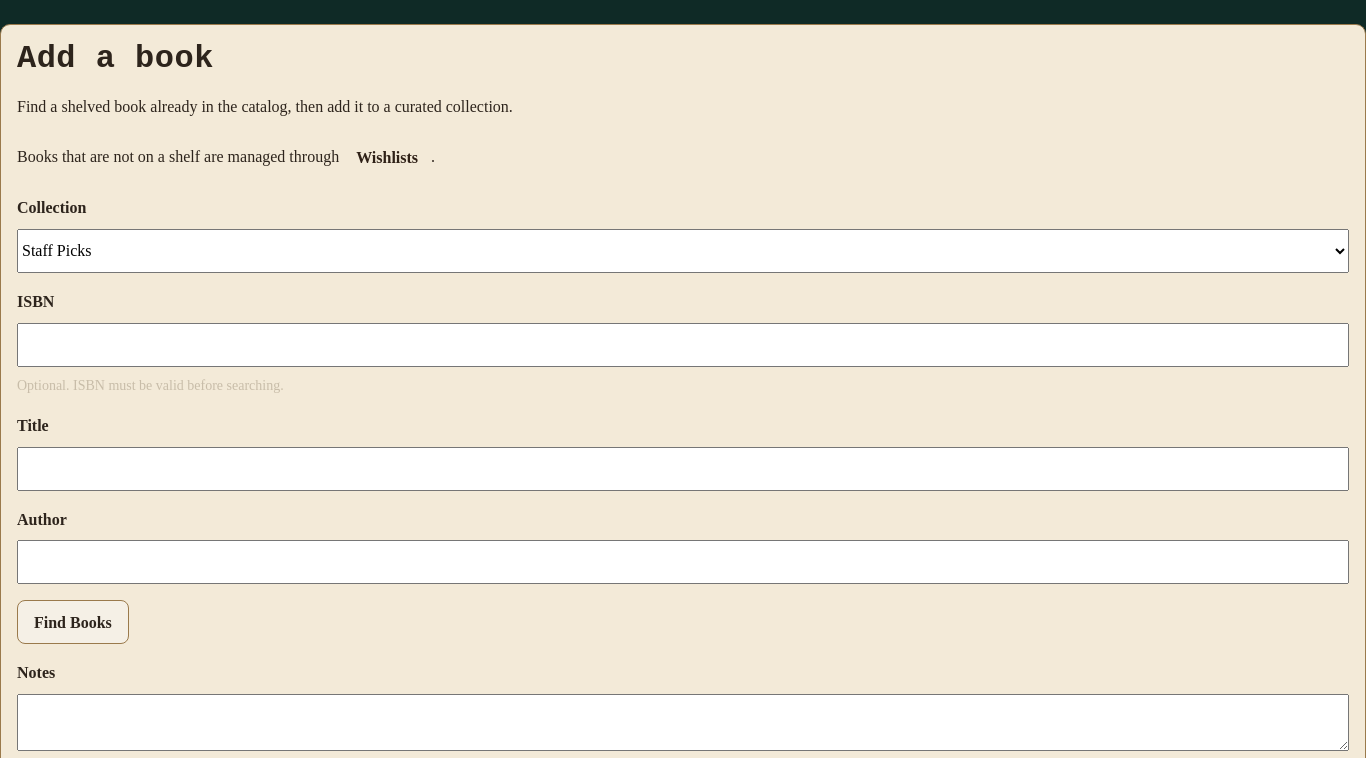
AddCollectionBookControl › adds the selected existing book membership with notes
In the field labelled "Title": {"x": 683, "y": 469} 17,447 -> 1349,491, type "Dispossessed"
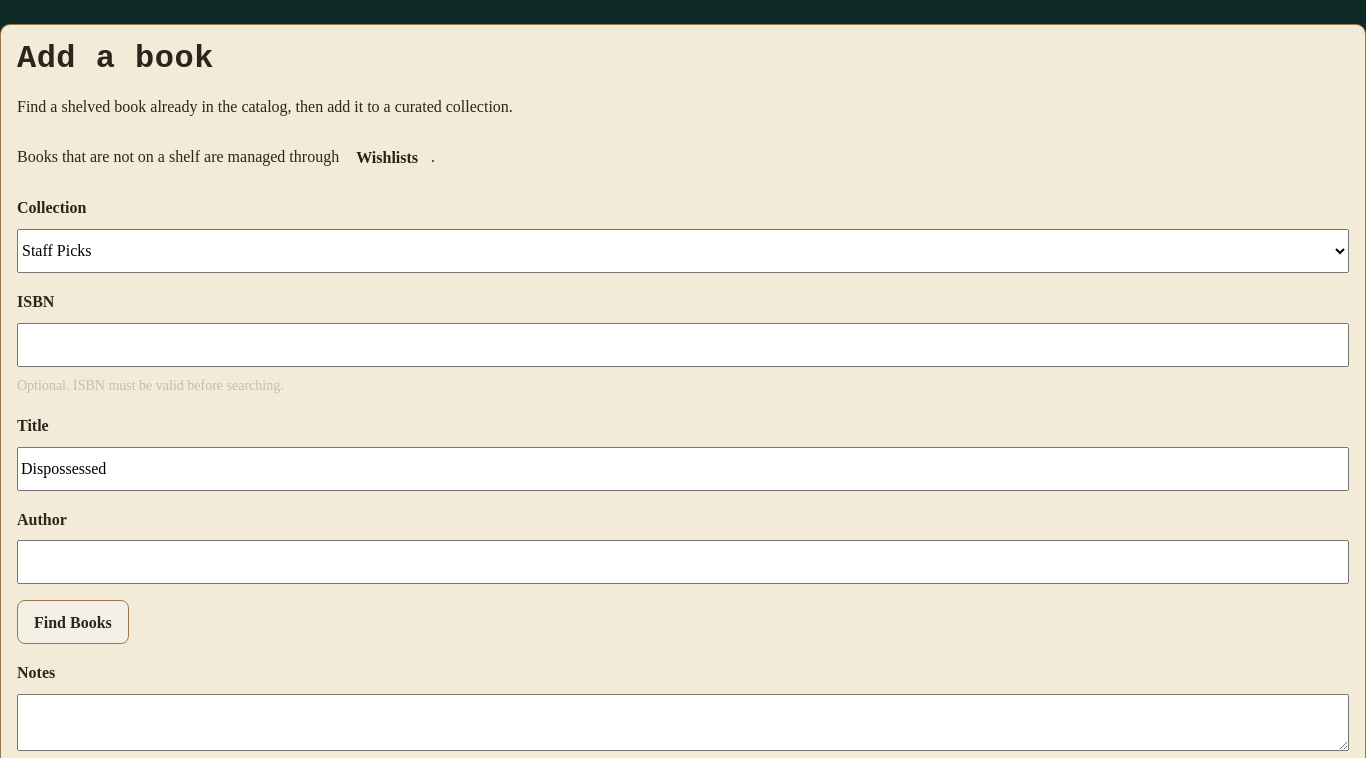
Click the button "Find Books": {"x": 73, "y": 622} 17,600 -> 129,644
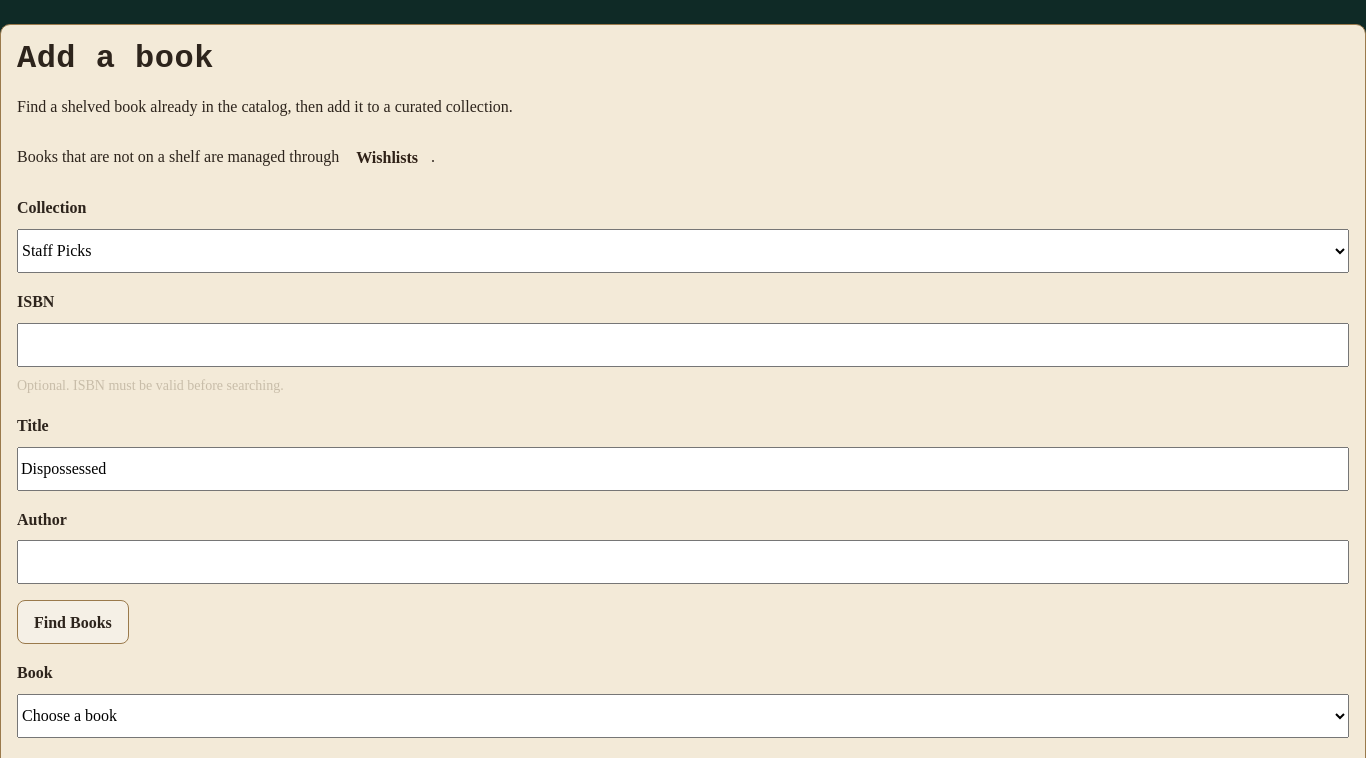
Select "The Dispossessed — Ursula K. Le Guin" in the dropdown labelled "Book": {"x": 683, "y": 716} 17,694 -> 1349,738
(page scrolled)
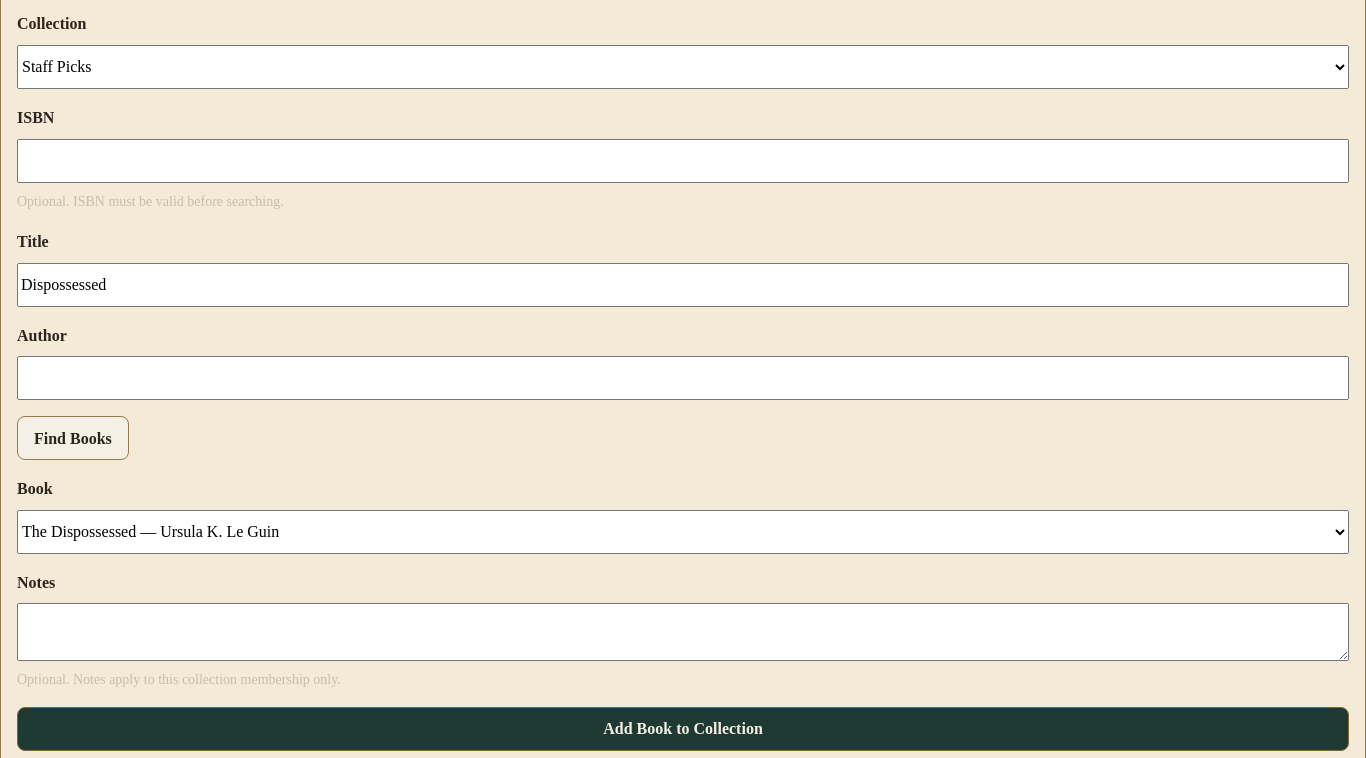
In the text box labelled "Notes": {"x": 683, "y": 632} 17,603 -> 1349,660, type "  Featured title  "
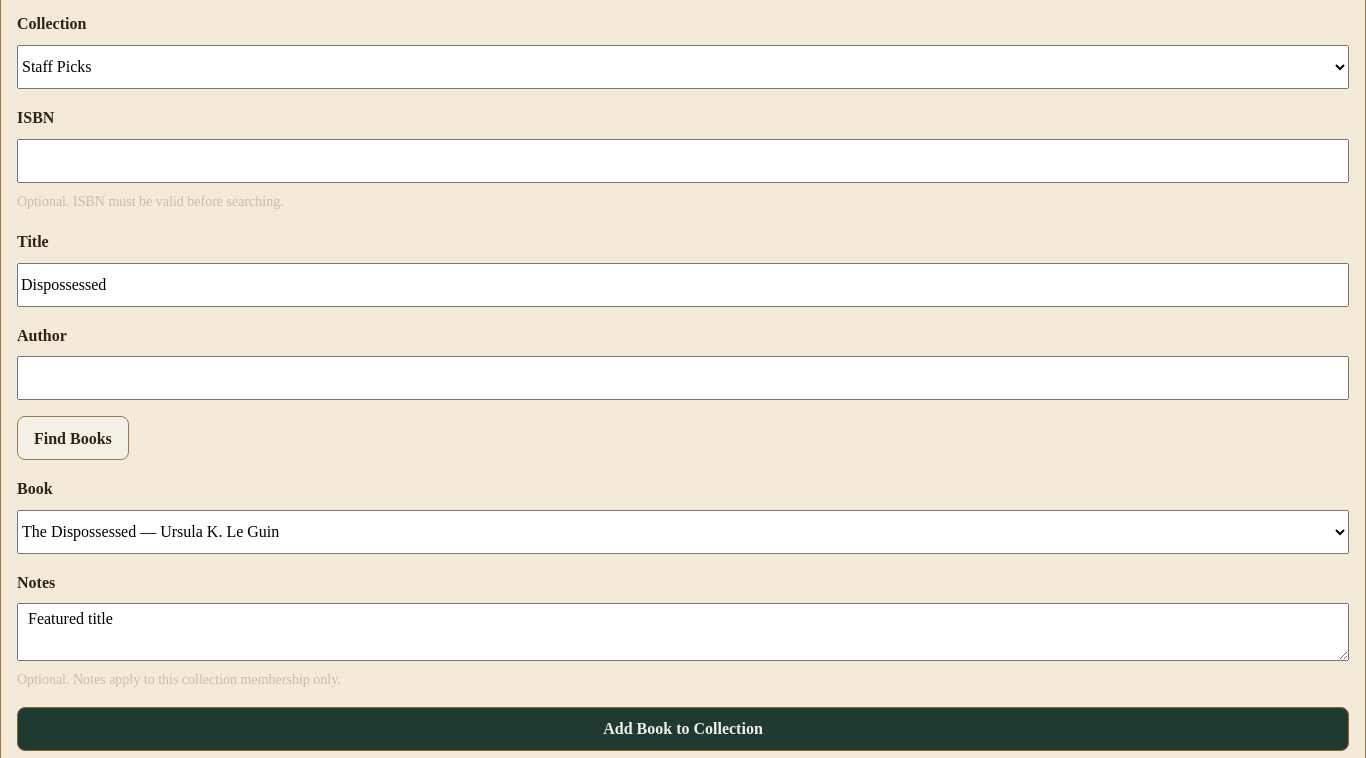
Click the button "Add Book to Collection": {"x": 683, "y": 729} 17,707 -> 1349,751
(page scrolled)
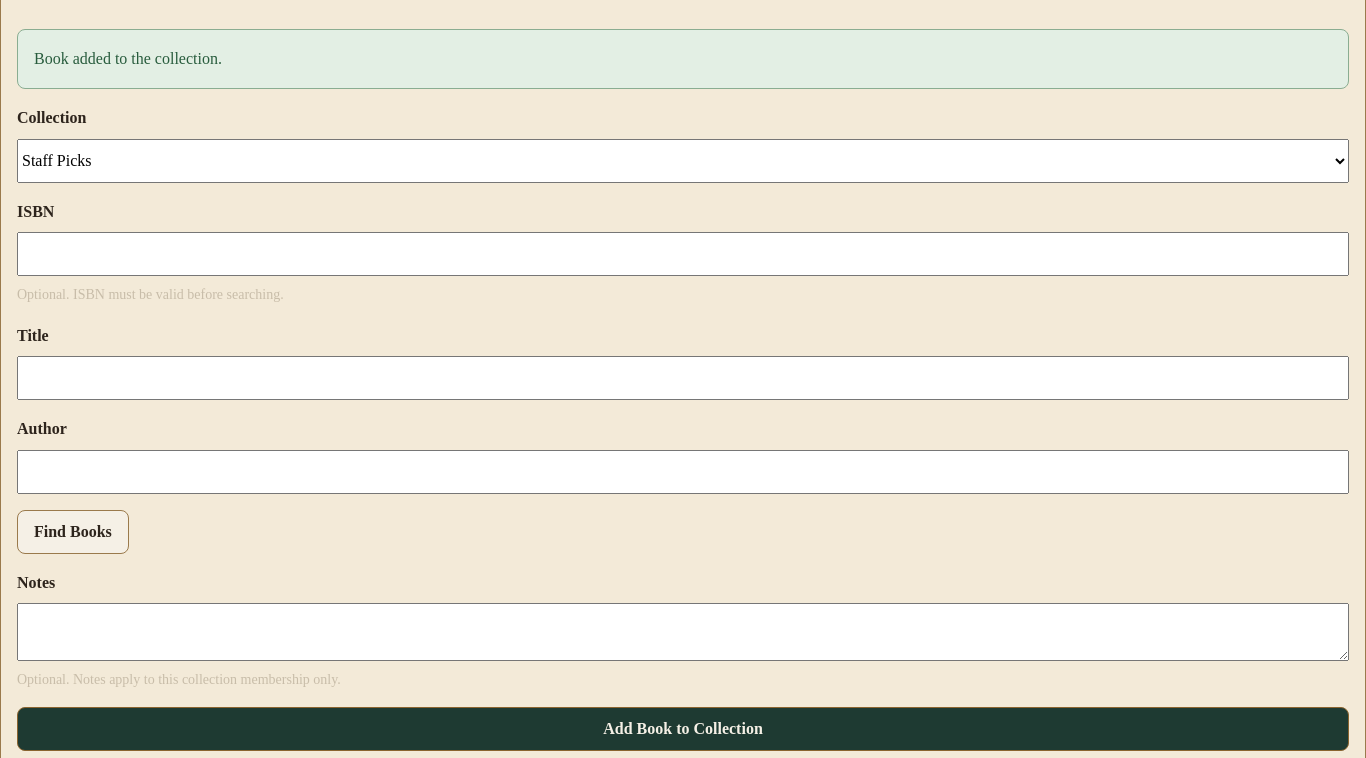
expect the message reads "Book added to the collection.": met, box 34,50 -> 222,67
